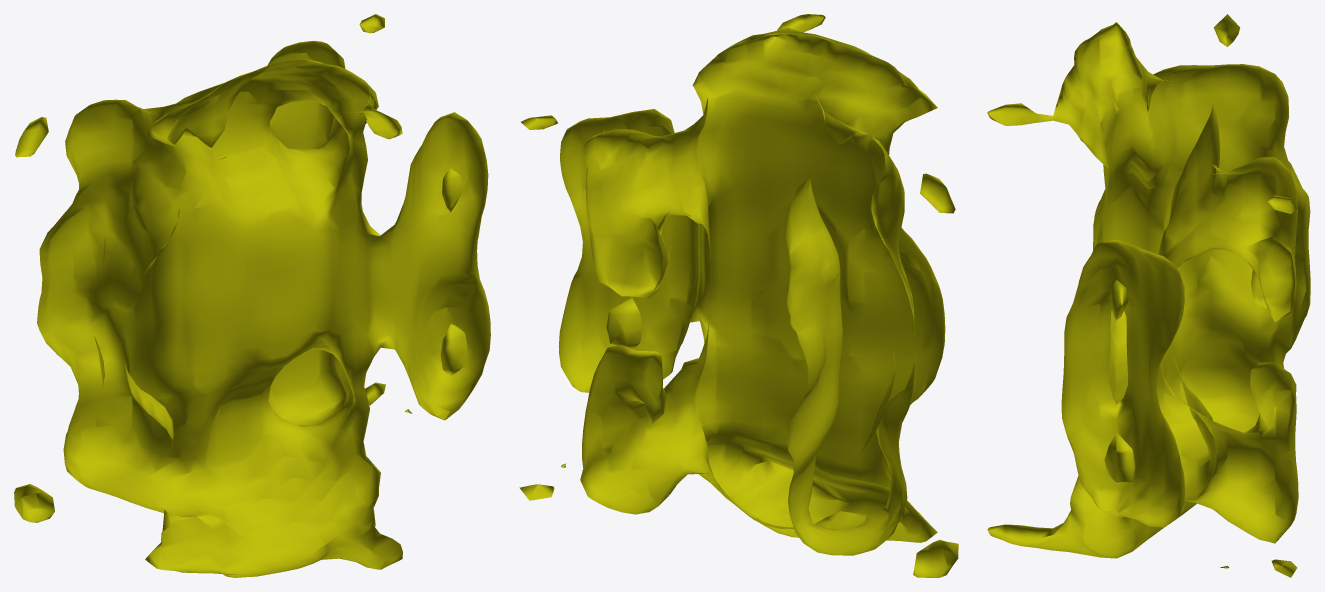
3 views of the same model, side by side, from view 1: azimuth 30°, elevation 25°; view 2: azimuth 150°, elevation 25°; view 3: azimuth 270°, elevation 25° (orthographic). The views are drawn at different scales.
Visible parts, largest first — view 1: world; view 2: world; view 3: world.
Part boxes in pixels (x1,y1,x2,y2): world: (14, 14, 490, 577); world: (519, 14, 958, 577); world: (987, 14, 1310, 577).
Bounding box in the file's own units: 30.8 × 34.24 × 20.41.
